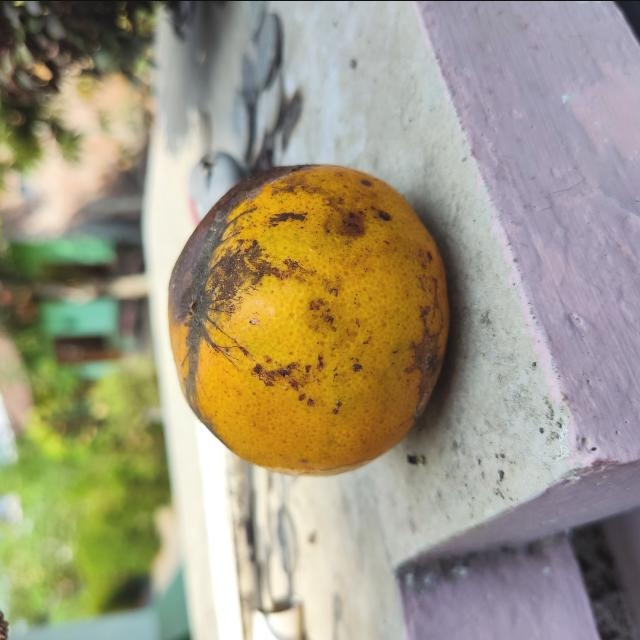agrume: (163, 159, 451, 478)
